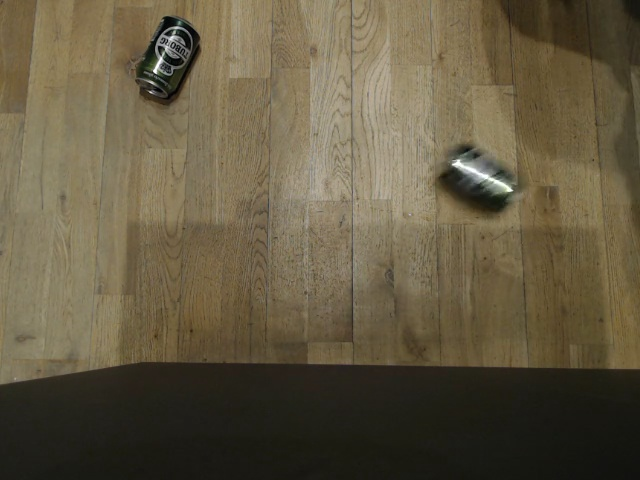beer: (132, 13, 202, 100), (436, 142, 519, 215)
